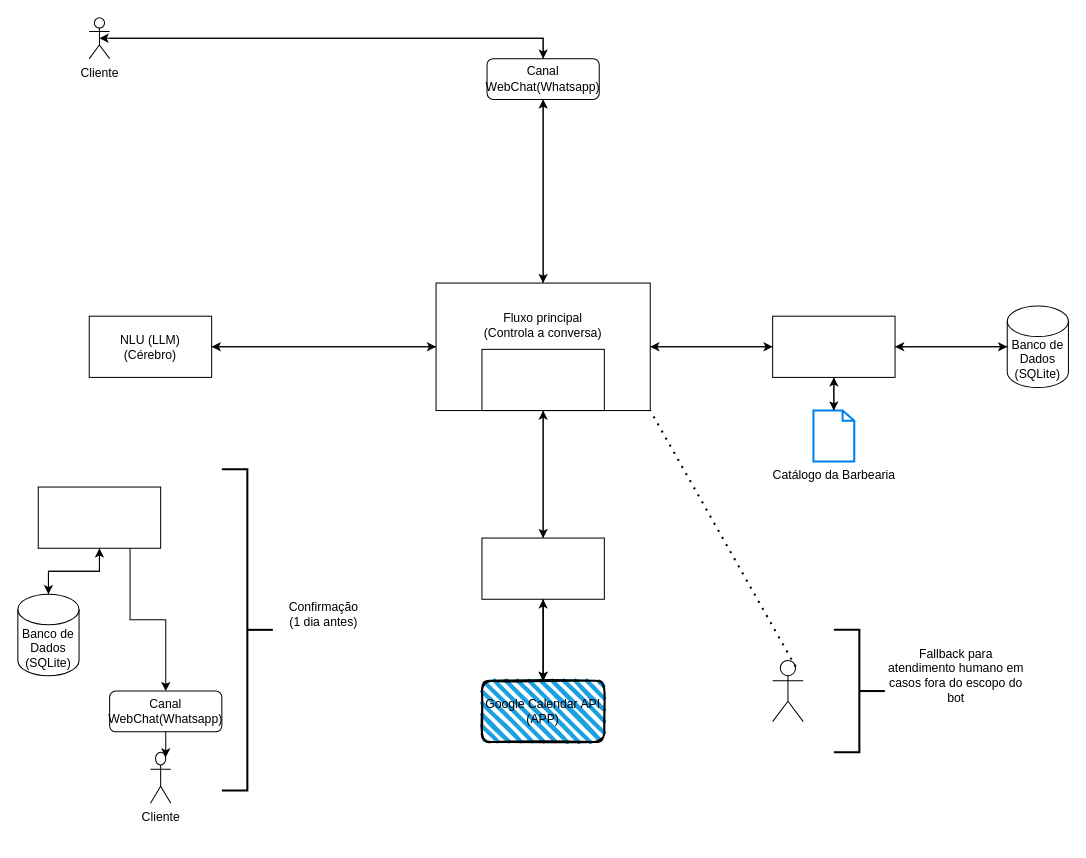
The diagram is 1086 pixels wide and 858 high, and some of its shapes have lost their labels. The shapes that lost their labels are listed below. From the top down, each one's centre as x and y in pixels, then its label:
At [833,346]: "Regras de Negócio de Agendamento".
At [542,379]: "Gerenciador de Estado da Conversa(memoria)".
At [99,517]: "Lembrete de marcações".
At [542,568]: "Integração Google Calendar".
At [787,690]: "Atendimento Humano".
